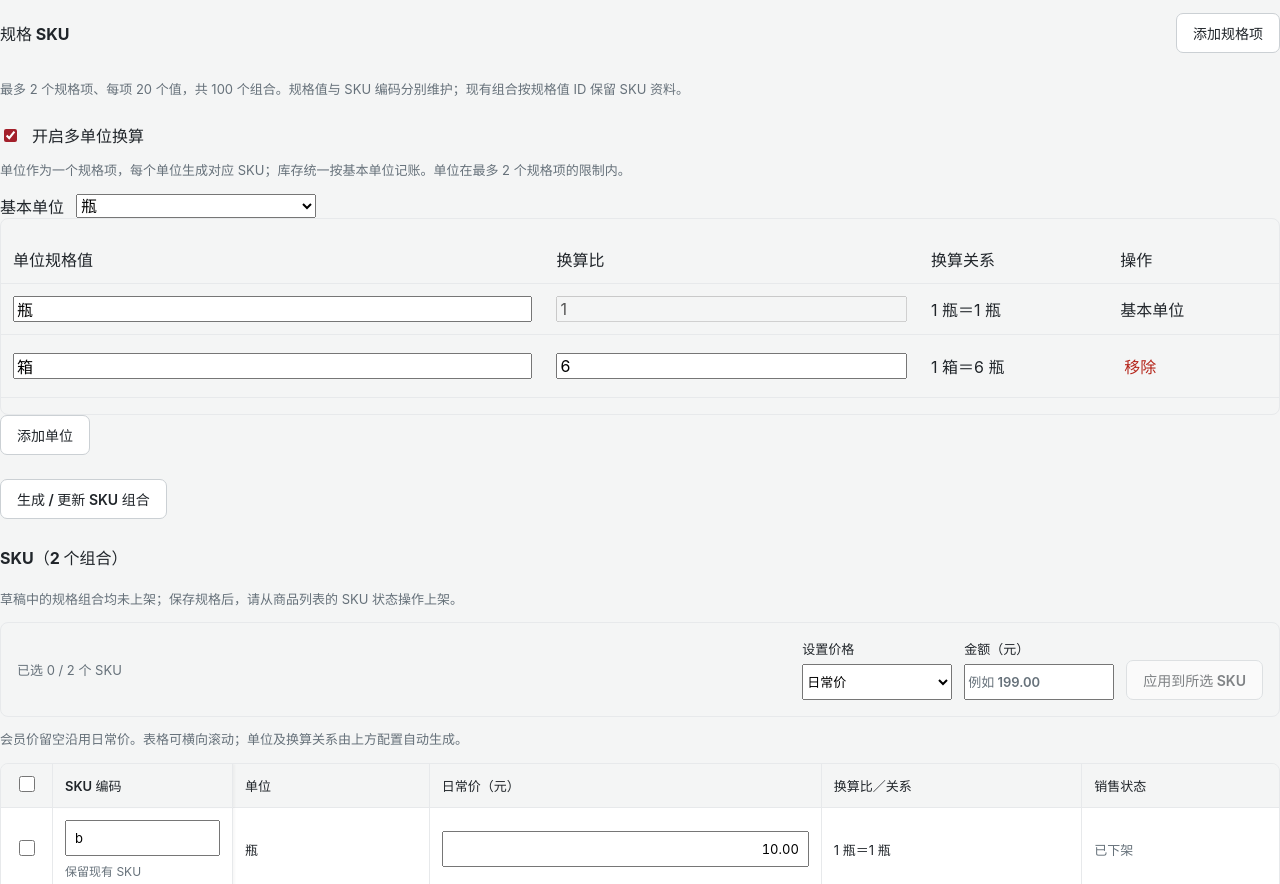
invalid conversion blocks regeneration, preserves entered values and makes no request
The image size is (1280, 884).
Replace the text in the number field named "单位换算比 2" with "1.5" at coordinates (732, 366), box [556, 352, 907, 378]
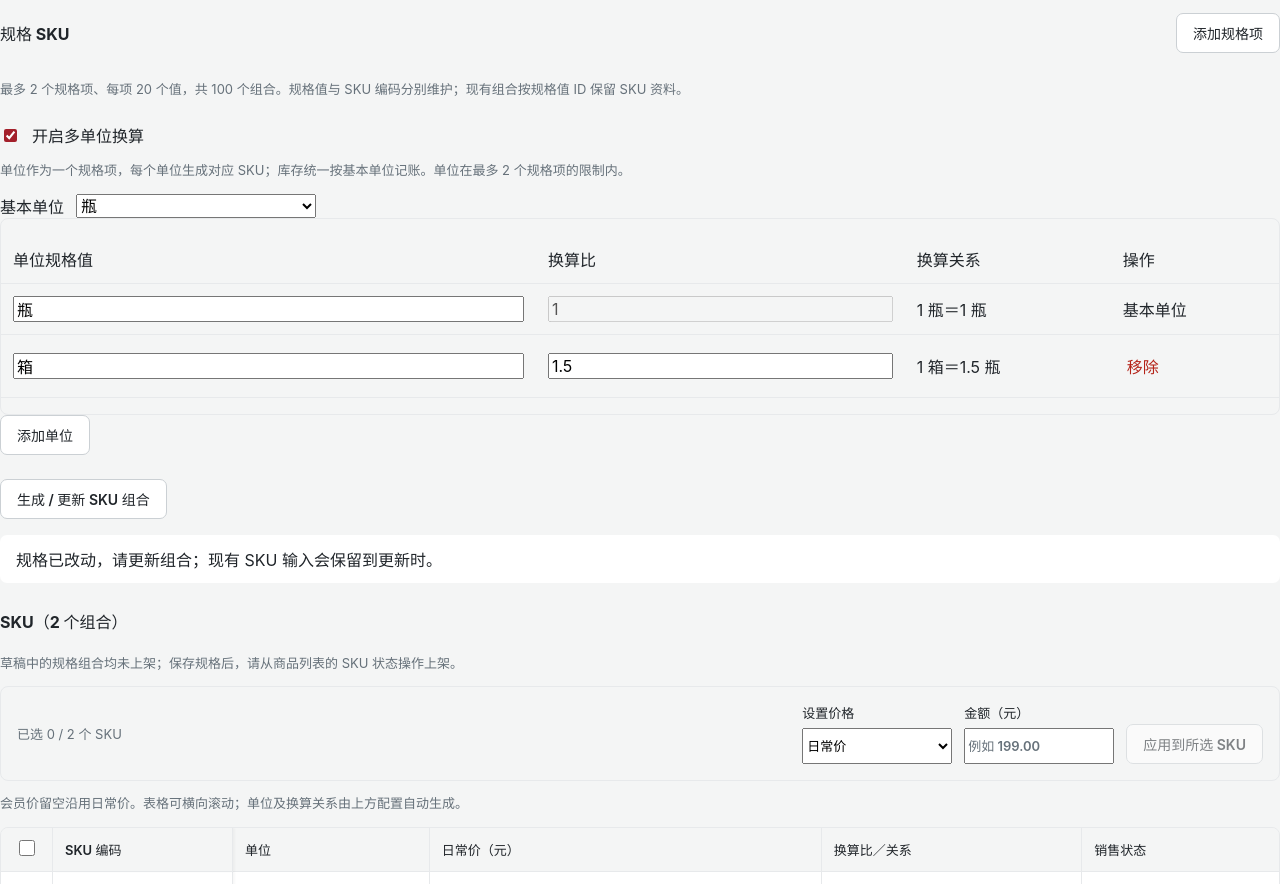
Click the button "生成 / 更新 SKU 组合" at coordinates (83, 498), box [0, 478, 167, 518]
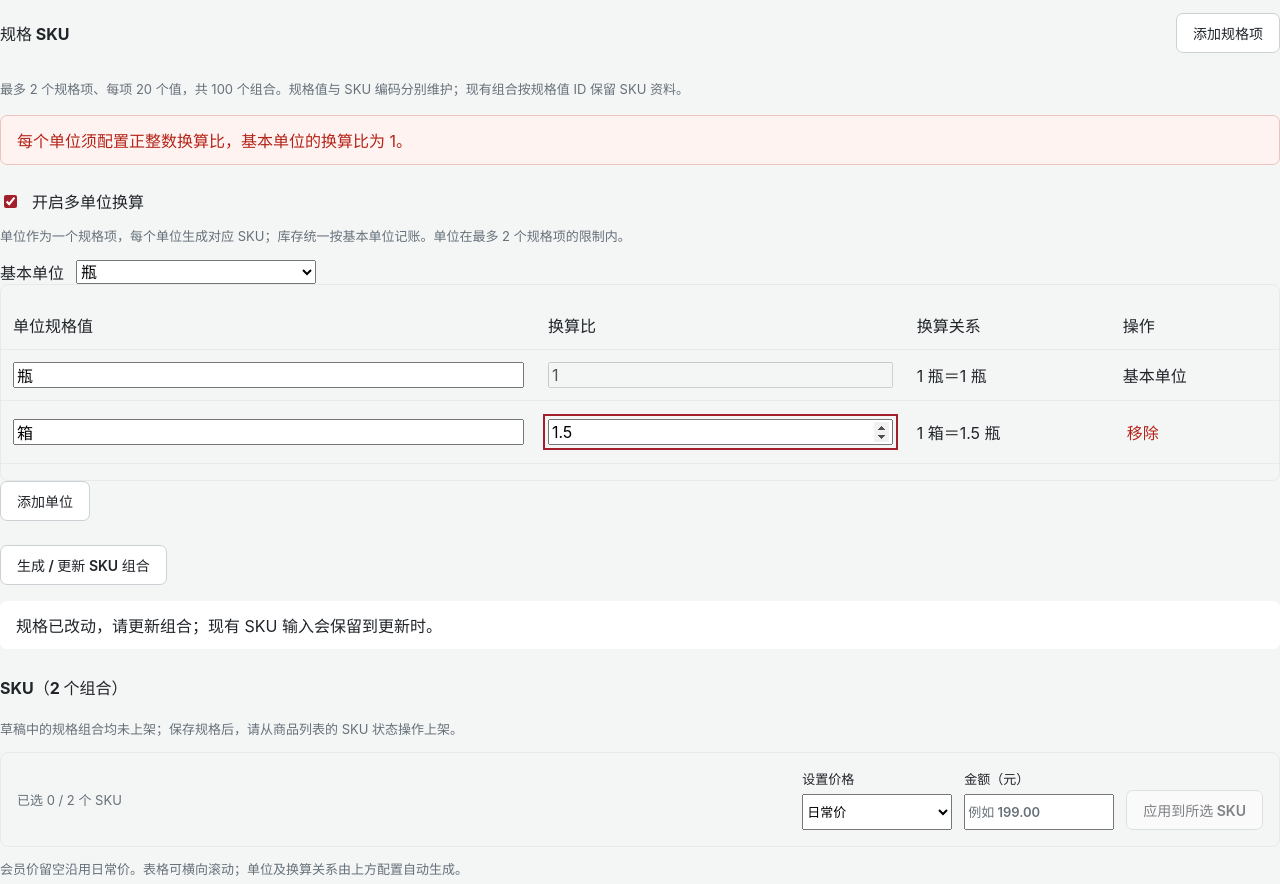
Check: the text "正整数换算比" is shown, box [17, 131, 412, 151]
